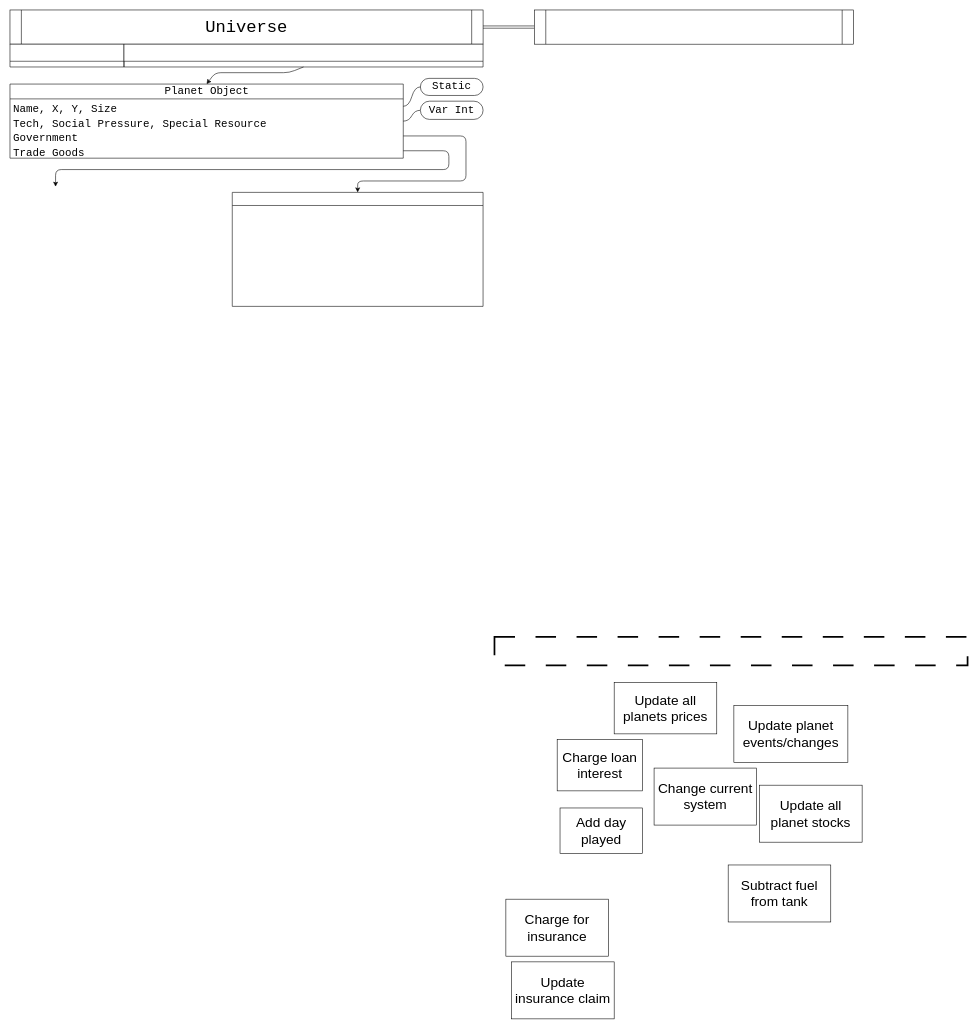
Some shapes in this 978 by 1029 pixel diagram are drawn without their labels. Here are the shapes that lost their labels. From the top down, the centre of each, then its label:
pixel 694 26: Commander
pixel 66 55: Wormholes
pixel 303 55: Planets
pixel 357 249: Government / Political System Object
pixel 730 651: Warp Actions
